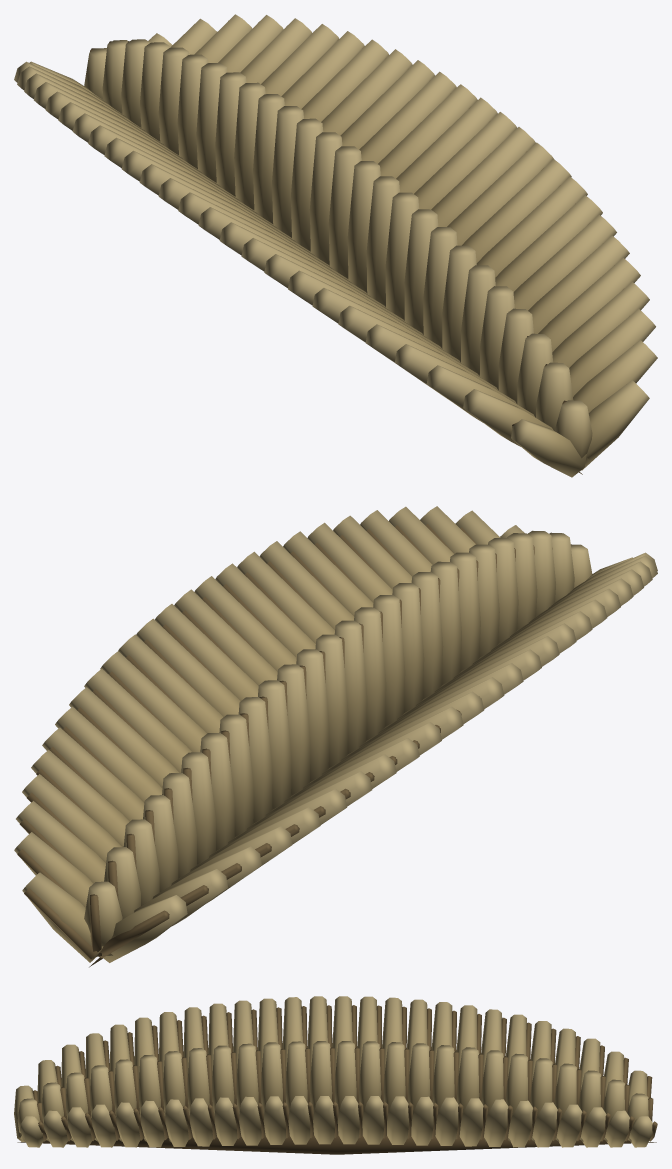
File: Pteridinium.fbx
3 views of the same model, one above another, from view 1: azimuth 30°, elevation 25°; view 2: azimuth 150°, elevation 25°; view 3: azimuth 270°, elevation 25° (orthographic). The views are drawn at different scales.
Visible parts, largest first — view 1: Pteridinium; view 2: Pteridinium; view 3: Pteridinium.
Part boxes in pixels (x1=…): Pteridinium: x1=14, y1=14, x2=657, y2=477; Pteridinium: x1=14, y1=506, x2=657, y2=967; Pteridinium: x1=14, y1=996, x2=657, y2=1154.
Bounding box in the file's own units: 0.4897 × 0.235 × 1.24.
